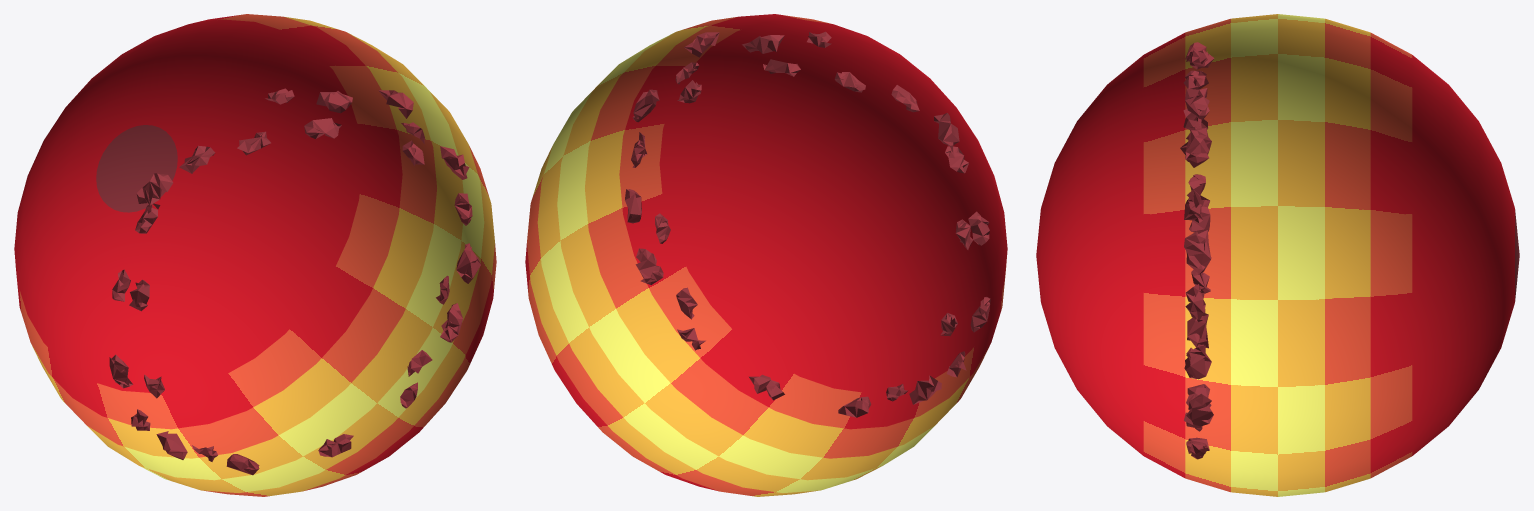
Rendered from background-hell.glb.
3 renders of one model, left to right at view 1: azimuth 30°, elevation 25°; view 2: azimuth 150°, elevation 25°; view 3: azimuth 270°, elevation 25°, orthographic.
Visible parts, largest first — view 1: background-hell; view 2: background-hell; view 3: background-hell.
Boxes of the visible parts, left/top/right/bottom form: background-hell: left=14, top=14, right=496, bottom=496; background-hell: left=525, top=14, right=1007, bottom=496; background-hell: left=1036, top=14, right=1519, bottom=496.
Bounding box in the file's own units: 1 × 1 × 1.
Materials: 1 (1 with a texture image).
